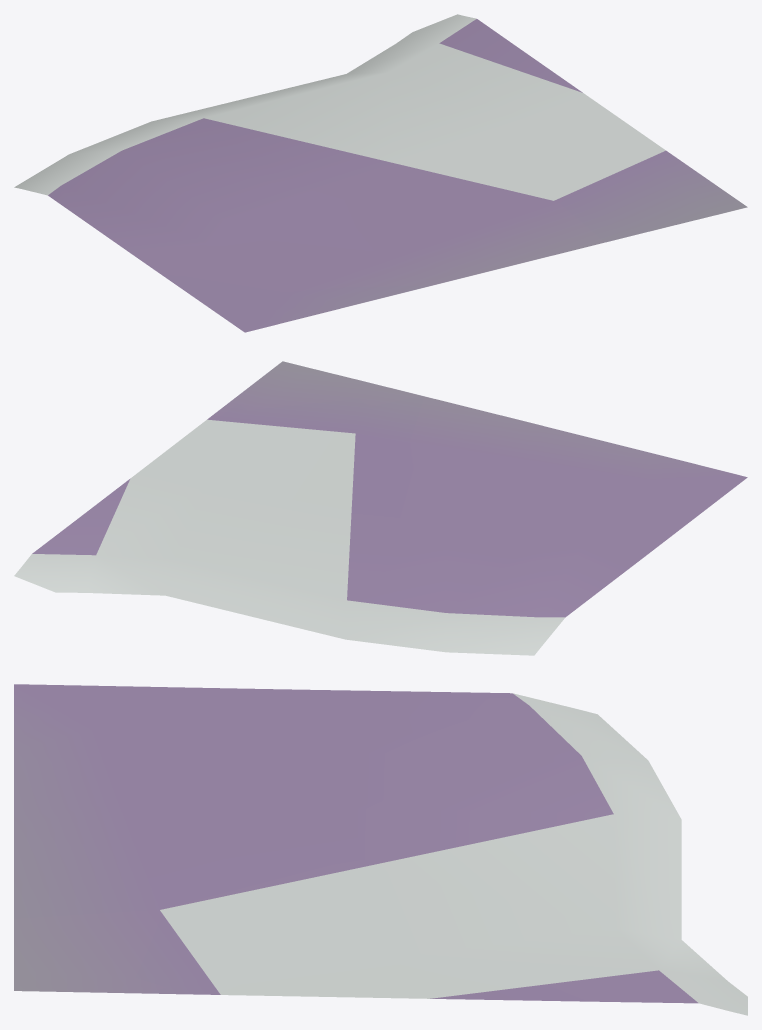
3 renders of one model, top to bottom at view 1: azimuth 30°, elevation 25°; view 2: azimuth 150°, elevation 25°; view 3: azimuth 270°, elevation 25°, orthographic. The views are drawn at different scales.
Parts seen in each view (by area): view 1: G:\FFXIV-MapTools\exports\m5f1\bg\ex4\02_mid_m5\fld\m5f1\bgp (×2); view 2: G:\FFXIV-MapTools\exports\m5f1\bg\ex4\02_mid_m5\fld\m5f1\bgp (×2); view 3: G:\FFXIV-MapTools\exports\m5f1\bg\ex4\02_mid_m5\fld\m5f1\bgp (×2).
Part boxes in pixels (box(x1,y1,x2,y2)): G:\FFXIV-MapTools\exports\m5f1\bg\ex4\02_mid_m5\fld\m5f1\bgp (×2): box(14, 14, 747, 332); G:\FFXIV-MapTools\exports\m5f1\bg\ex4\02_mid_m5\fld\m5f1\bgp (×2): box(14, 361, 747, 655); G:\FFXIV-MapTools\exports\m5f1\bg\ex4\02_mid_m5\fld\m5f1\bgp (×2): box(14, 684, 747, 1015).
Size of the model in its own units: 128 by 6.44 by 128.
